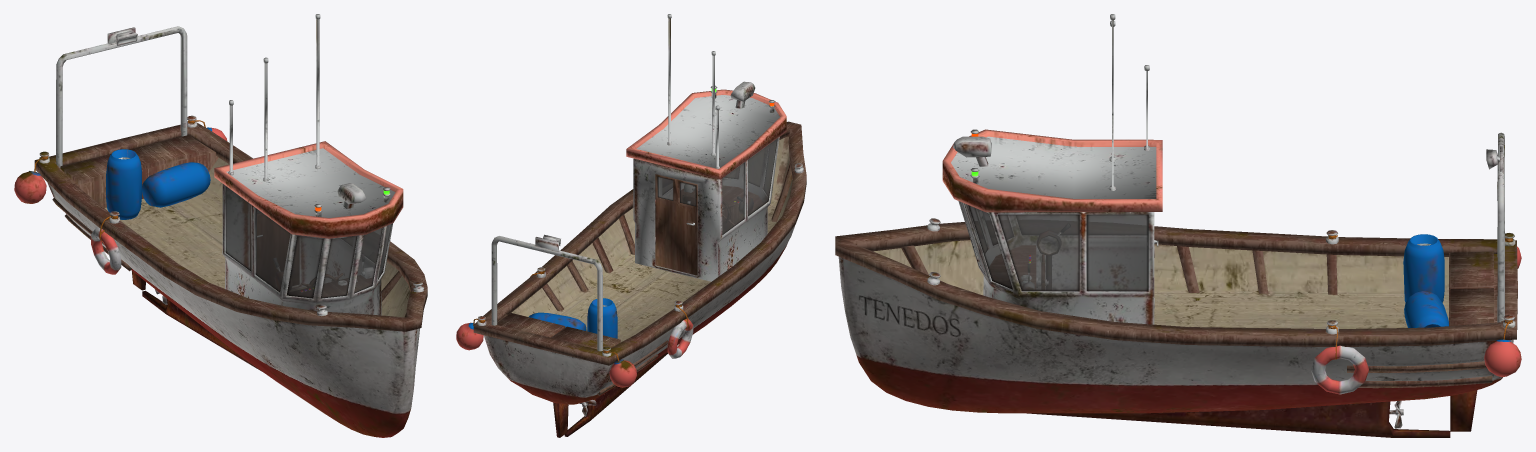
Rendered from barco_pesca2.glb.
3 renders of one model, left to right at view 1: azimuth 30°, elevation 25°; view 2: azimuth 150°, elevation 25°; view 3: azimuth 270°, elevation 25°, orthographic. The views are drawn at different scales.
Visible parts, largest first — view 1: Cube.022_Metal_0, Cube.022_Wood_0, Cube.022_MainColor_0, Cube.022_Glass_0, Cube.022_Plastic_0; view 2: Cube.022_Wood_0, Cube.022_Metal_0, Cube.022_MainColor_0, Cube.022_Glass_0, Cube.022_Plastic_0; view 3: Cube.022_MainColor_0, Cube.022_Wood_0, Cube.022_Metal_0, Cube.022_Glass_0, Cube.022_Plastic_0.
Part boxes in pixels (left/top/right/bottom): Cube.022_Metal_0: left=39, top=14, right=423, bottom=315; Cube.022_Wood_0: left=34, top=123, right=427, bottom=331; Cube.022_MainColor_0: left=47, top=182, right=419, bottom=437; Cube.022_Glass_0: left=225, top=186, right=391, bottom=298; Cube.022_Plastic_0: left=14, top=120, right=344, bottom=290; Cube.022_Wood_0: left=473, top=121, right=806, bottom=395; Cube.022_Metal_0: left=477, top=14, right=803, bottom=416; Cube.022_MainColor_0: left=484, top=226, right=794, bottom=437; Cube.022_Glass_0: left=657, top=138, right=777, bottom=234; Cube.022_Plastic_0: left=456, top=201, right=738, bottom=387; Cube.022_MainColor_0: left=838, top=257, right=1513, bottom=437; Cube.022_Wood_0: left=835, top=222, right=1517, bottom=388; Cube.022_Metal_0: left=927, top=14, right=1515, bottom=428; Cube.022_Glass_0: left=960, top=201, right=1148, bottom=291; Cube.022_Plastic_0: left=1023, top=234, right=1521, bottom=394.
Bounding box in the file's own units: 3.61 × 6.32 × 9.
7 materials, 5 textured.
